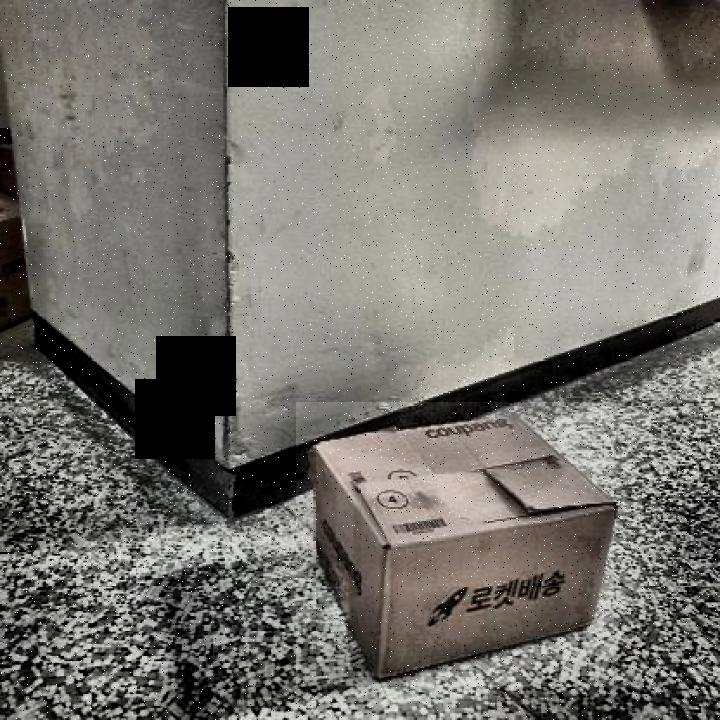box: (296, 402, 614, 686)
